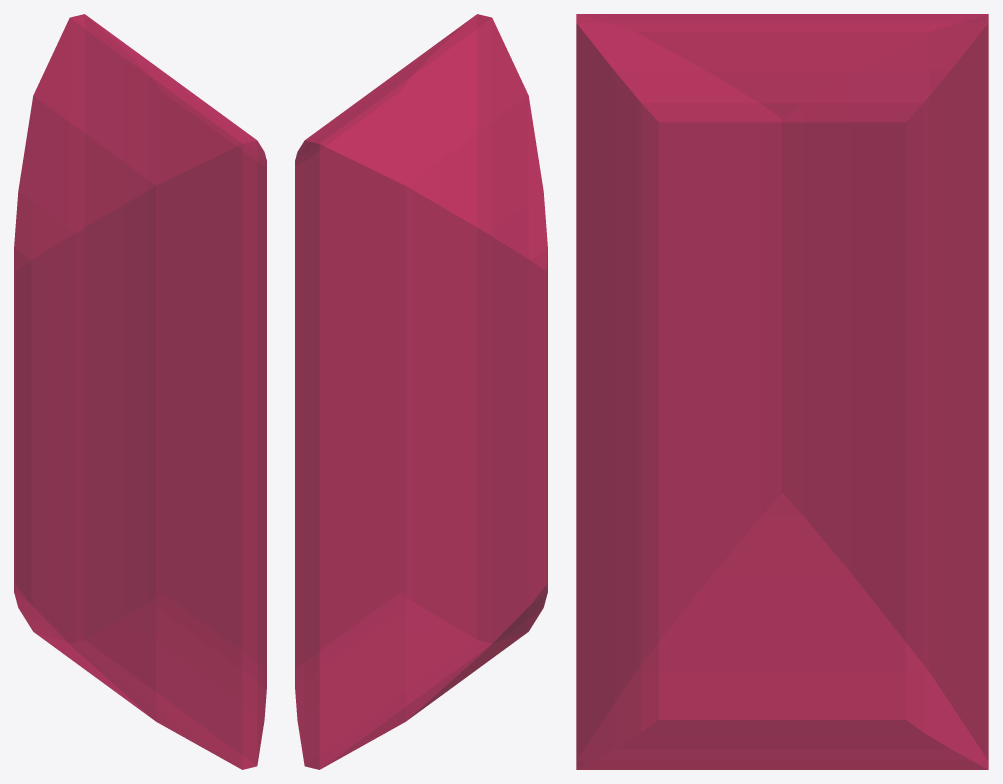
The model's file is baguette spinell.glb.
3 views of the same model, side by side, from view 1: azimuth 30°, elevation 25°; view 2: azimuth 150°, elevation 25°; view 3: azimuth 270°, elevation 25° (orthographic). The views are drawn at different scales.
Parts seen in each view (by area): view 1: uploads_files_895467_baguette; view 2: uploads_files_895467_baguette; view 3: uploads_files_895467_baguette.
Boxes of the visible parts, x1=… form: uploads_files_895467_baguette: x1=14, y1=14, x2=266, y2=769; uploads_files_895467_baguette: x1=295, y1=14, x2=547, y2=769; uploads_files_895467_baguette: x1=576, y1=14, x2=988, y2=769.
Size of the model in its own units: 0.6654 by 2.01 by 1.01.
